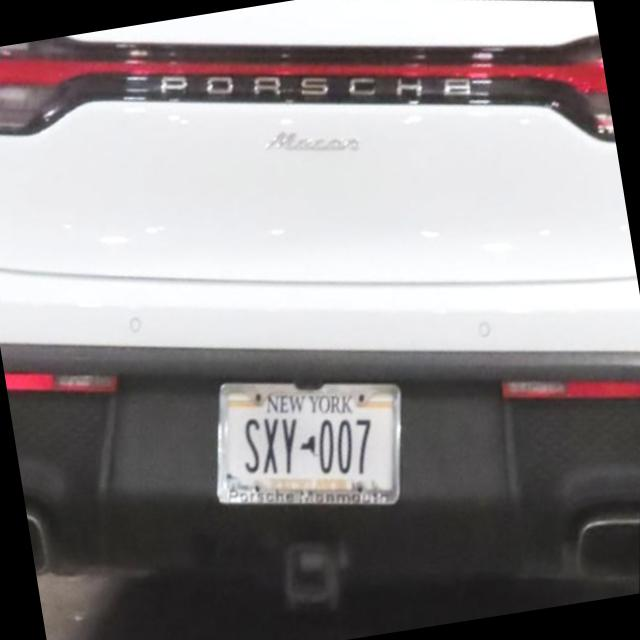LicensePlate: (214, 383, 402, 504)
